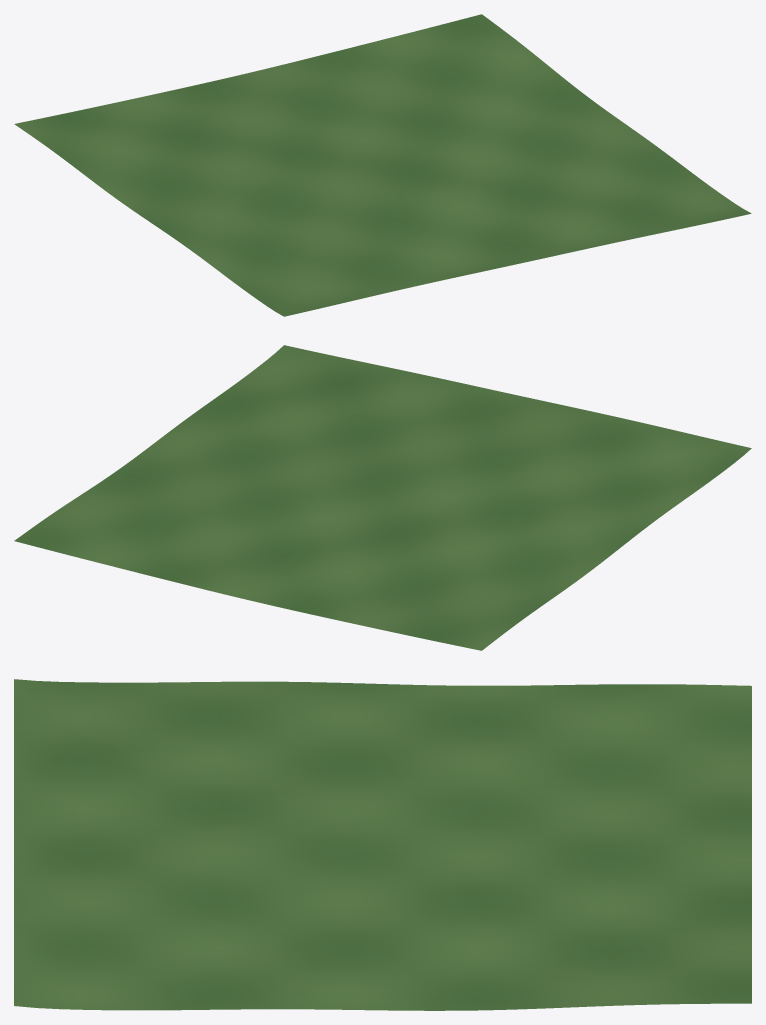
The model's file is chunk_7_11.glb.
3 views of the same model, one above another, from view 1: azimuth 30°, elevation 25°; view 2: azimuth 150°, elevation 25°; view 3: azimuth 270°, elevation 25° (orthographic). The views are drawn at different scales.
Size of the model in its own units: 512 by 15.18 by 512.
